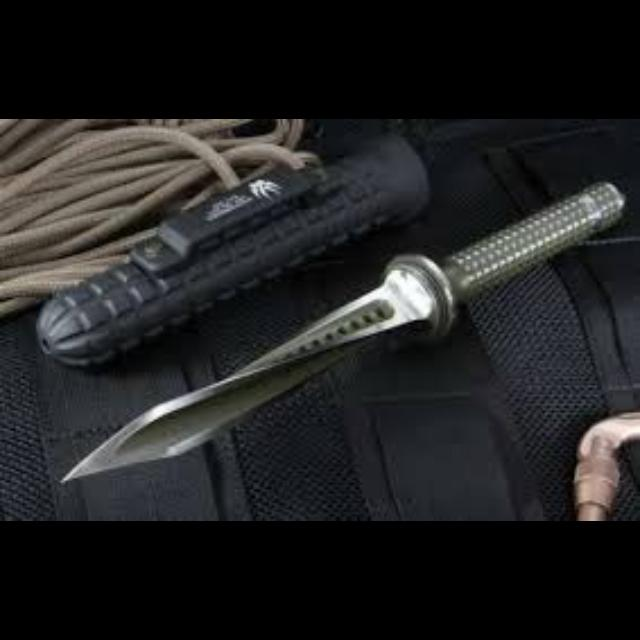Knife: (59, 178, 626, 482)
